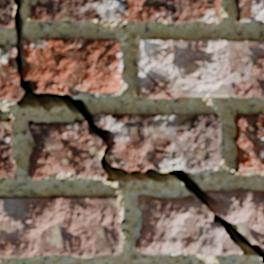brick: (136, 38, 263, 96), (0, 196, 120, 256), (31, 0, 220, 22), (234, 113, 263, 172), (138, 68, 168, 97), (0, 119, 14, 177), (236, 0, 263, 21), (0, 0, 12, 26)
broken_brick: (93, 111, 221, 172), (134, 195, 240, 256), (23, 37, 122, 96), (27, 119, 104, 180), (205, 189, 263, 245), (0, 44, 21, 101)
crack: (1, 0, 263, 263), (136, 63, 173, 98)
